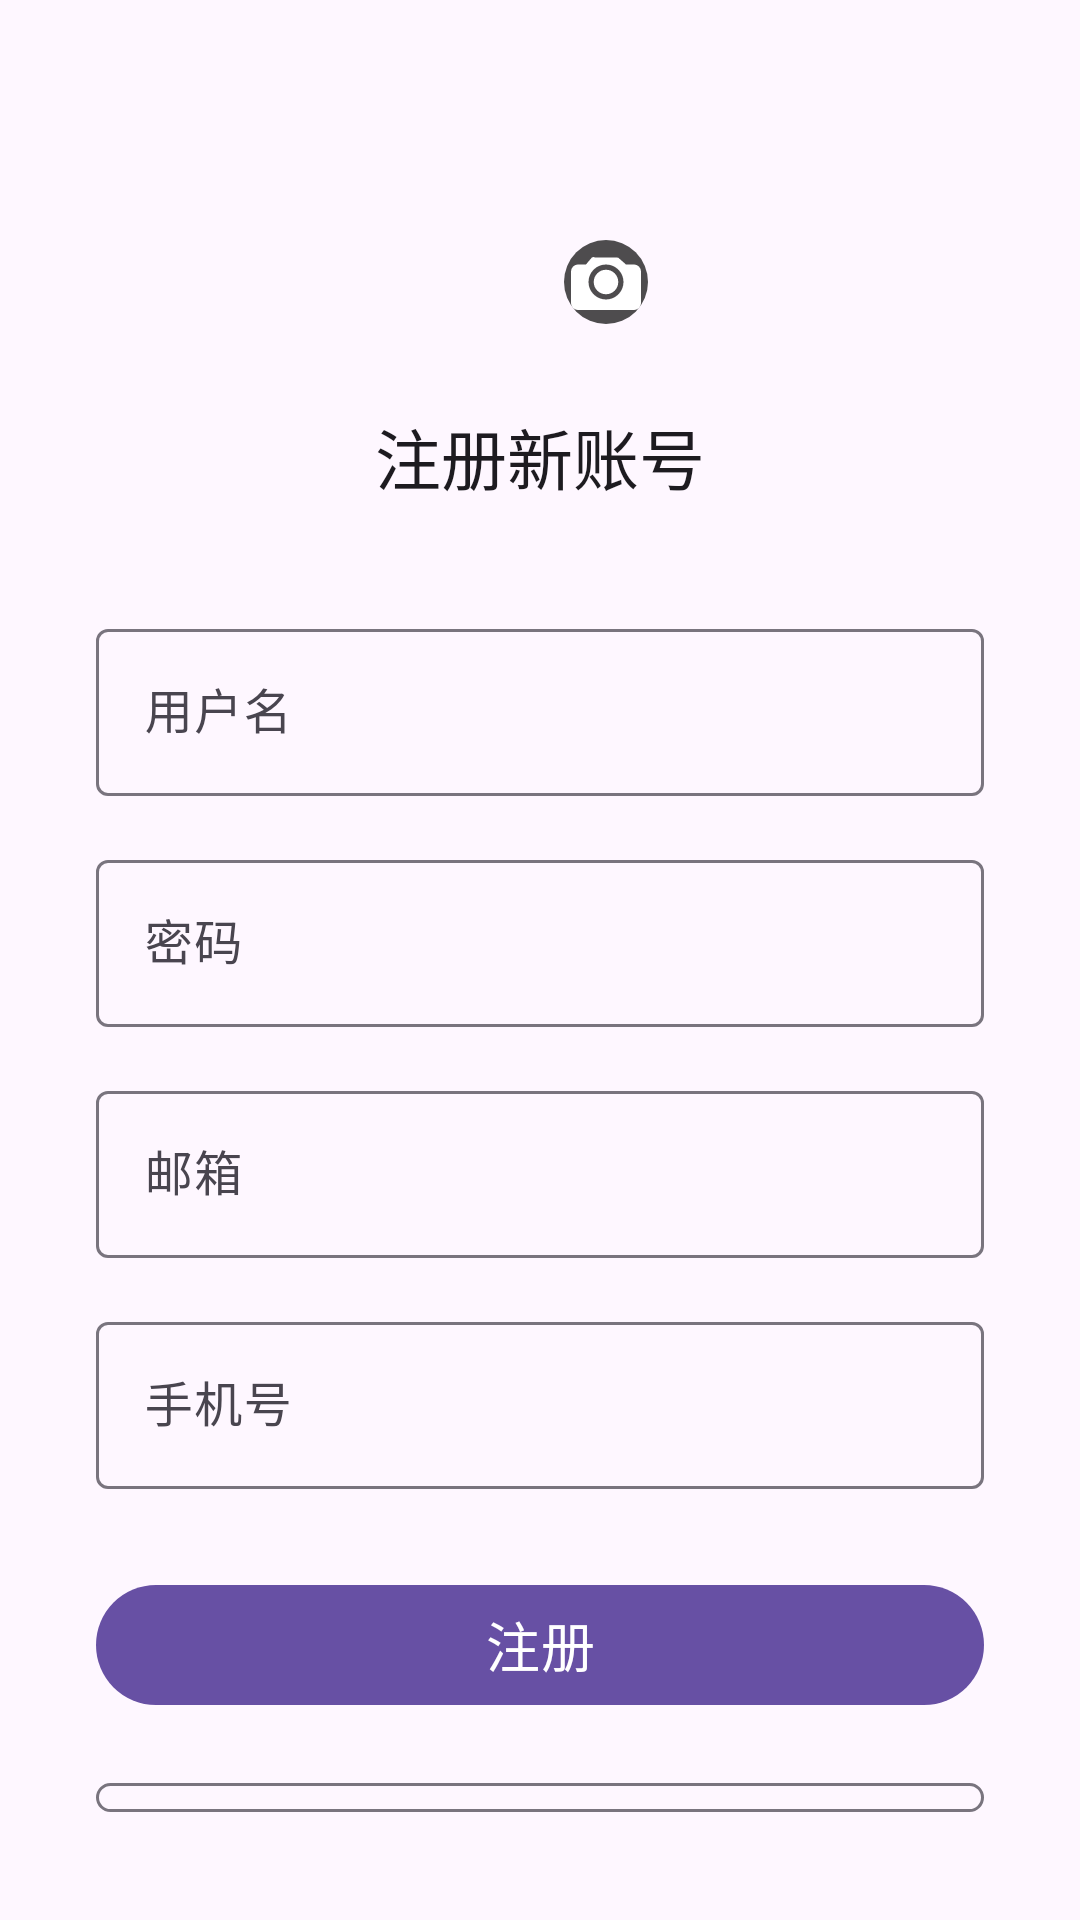

Icons on this 1080 × 1920 Android screen, each with the point to tap as (x,y):
camera: (606,282)
